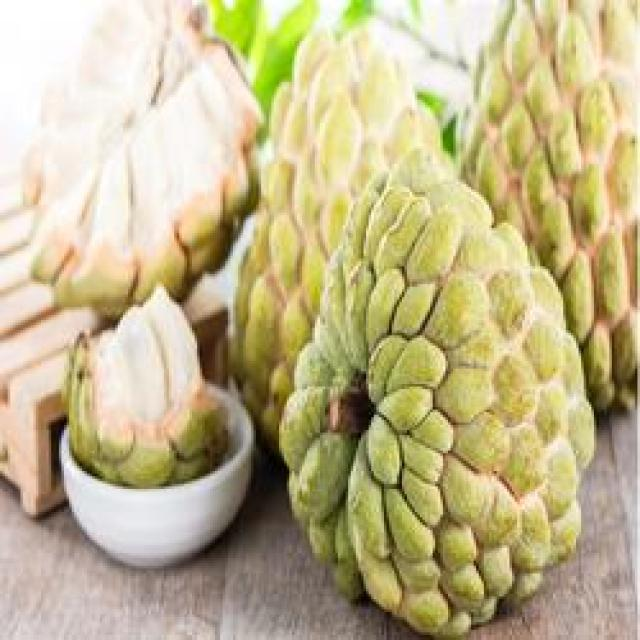apple: (274, 164, 609, 632)
